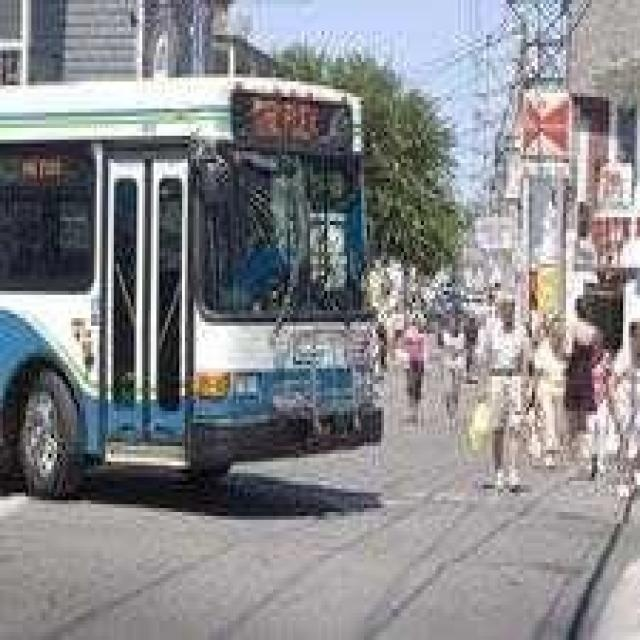Bus: (0, 62, 393, 504)
